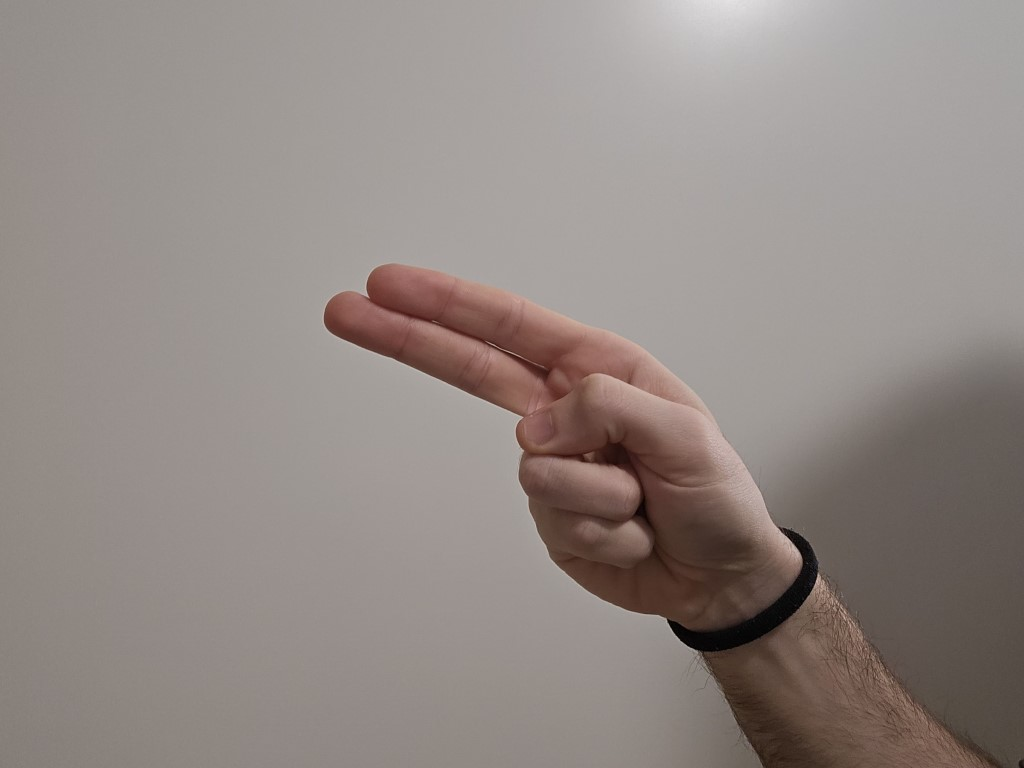h: (306, 249, 774, 624)
